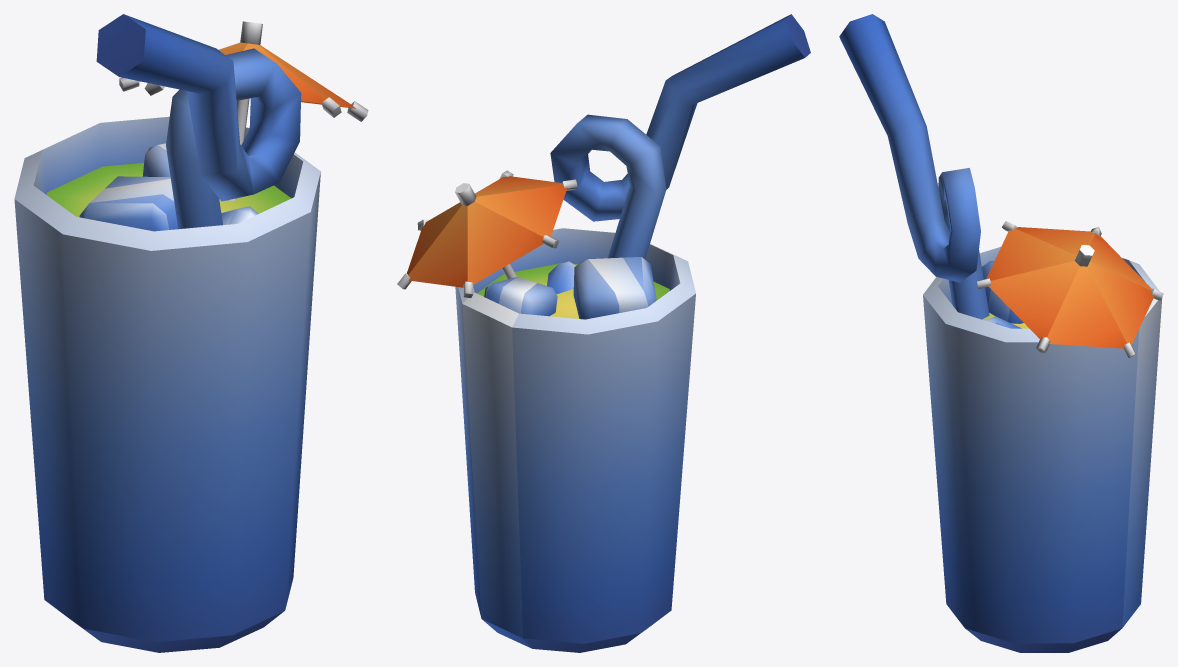
File: m_Cocktail11.fbx
The picture shows the model from 3 angles, left to right: view 1: azimuth 30°, elevation 25°; view 2: azimuth 150°, elevation 25°; view 3: azimuth 270°, elevation 25°; orthographic projection. The views are drawn at different scales.
Visible parts, largest first — view 1: m_Cocktail11; view 2: m_Cocktail11; view 3: m_Cocktail11.
Part boxes in pixels (left/top/right/bottom): m_Cocktail11: left=14, top=14, right=368, bottom=652; m_Cocktail11: left=397, top=14, right=810, bottom=652; m_Cocktail11: left=839, top=14, right=1163, bottom=652.
Size of the model in its own units: 18.26 by 32.78 by 17.6.
